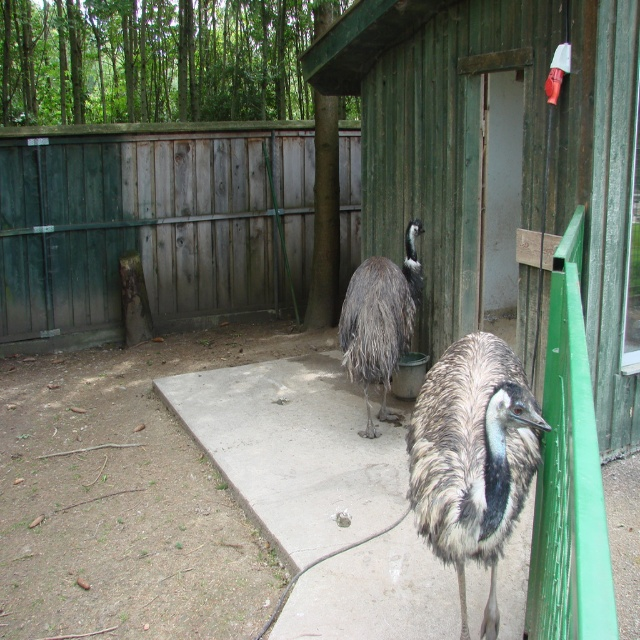Ostrich: (404, 325, 552, 639), (339, 205, 434, 428)
